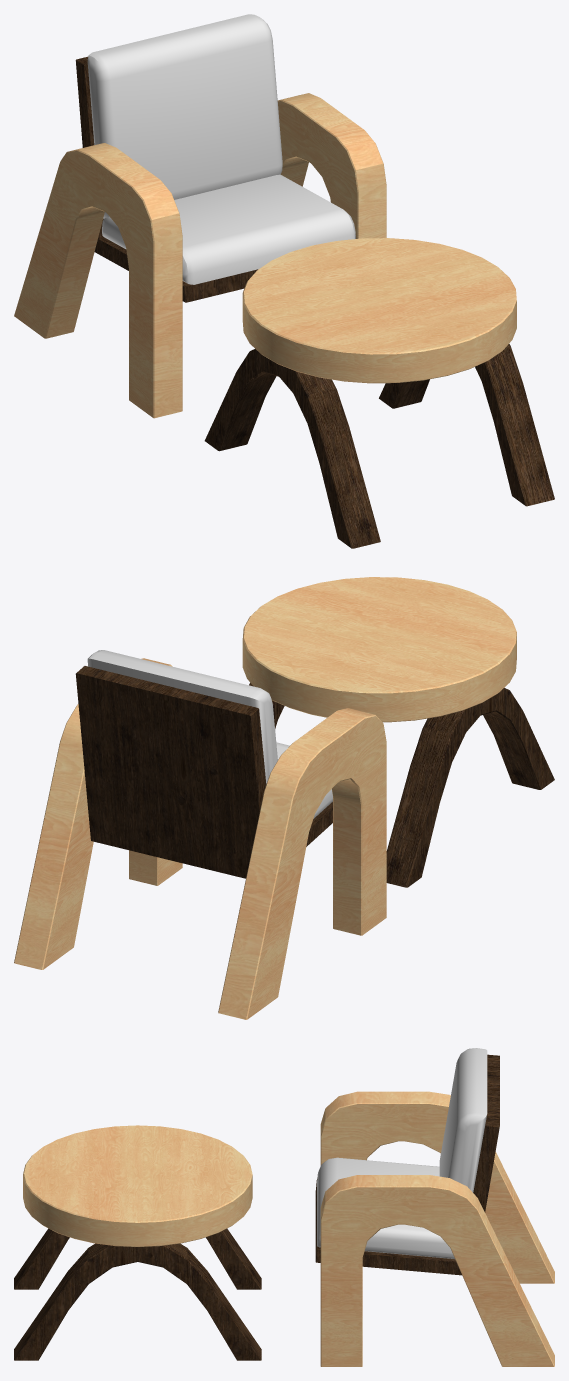
Rendered from chair.fbx.
The picture shows the model from 3 angles, top to bottom: view 1: azimuth 30°, elevation 25°; view 2: azimuth 150°, elevation 25°; view 3: azimuth 270°, elevation 25°; orthographic projection. The views are drawn at different scales.
Visible parts, largest first — view 1: kursi.001, meja.001; view 2: kursi.001, meja.001; view 3: kursi.001, meja.001.
Part boxes in pixels (x1=…): kursi.001: x1=14, y1=14, x2=386, y2=418; meja.001: x1=204, y1=238, x2=554, y2=548; kursi.001: x1=14, y1=650, x2=386, y2=1019; meja.001: x1=242, y1=577, x2=554, y2=887; kursi.001: x1=315, y1=1048, x2=554, y2=1366; meja.001: x1=14, y1=1125, x2=261, y2=1360.
Bounding box in the file's own units: 81.58 × 93.53 × 192.
3 materials, 2 textured.
